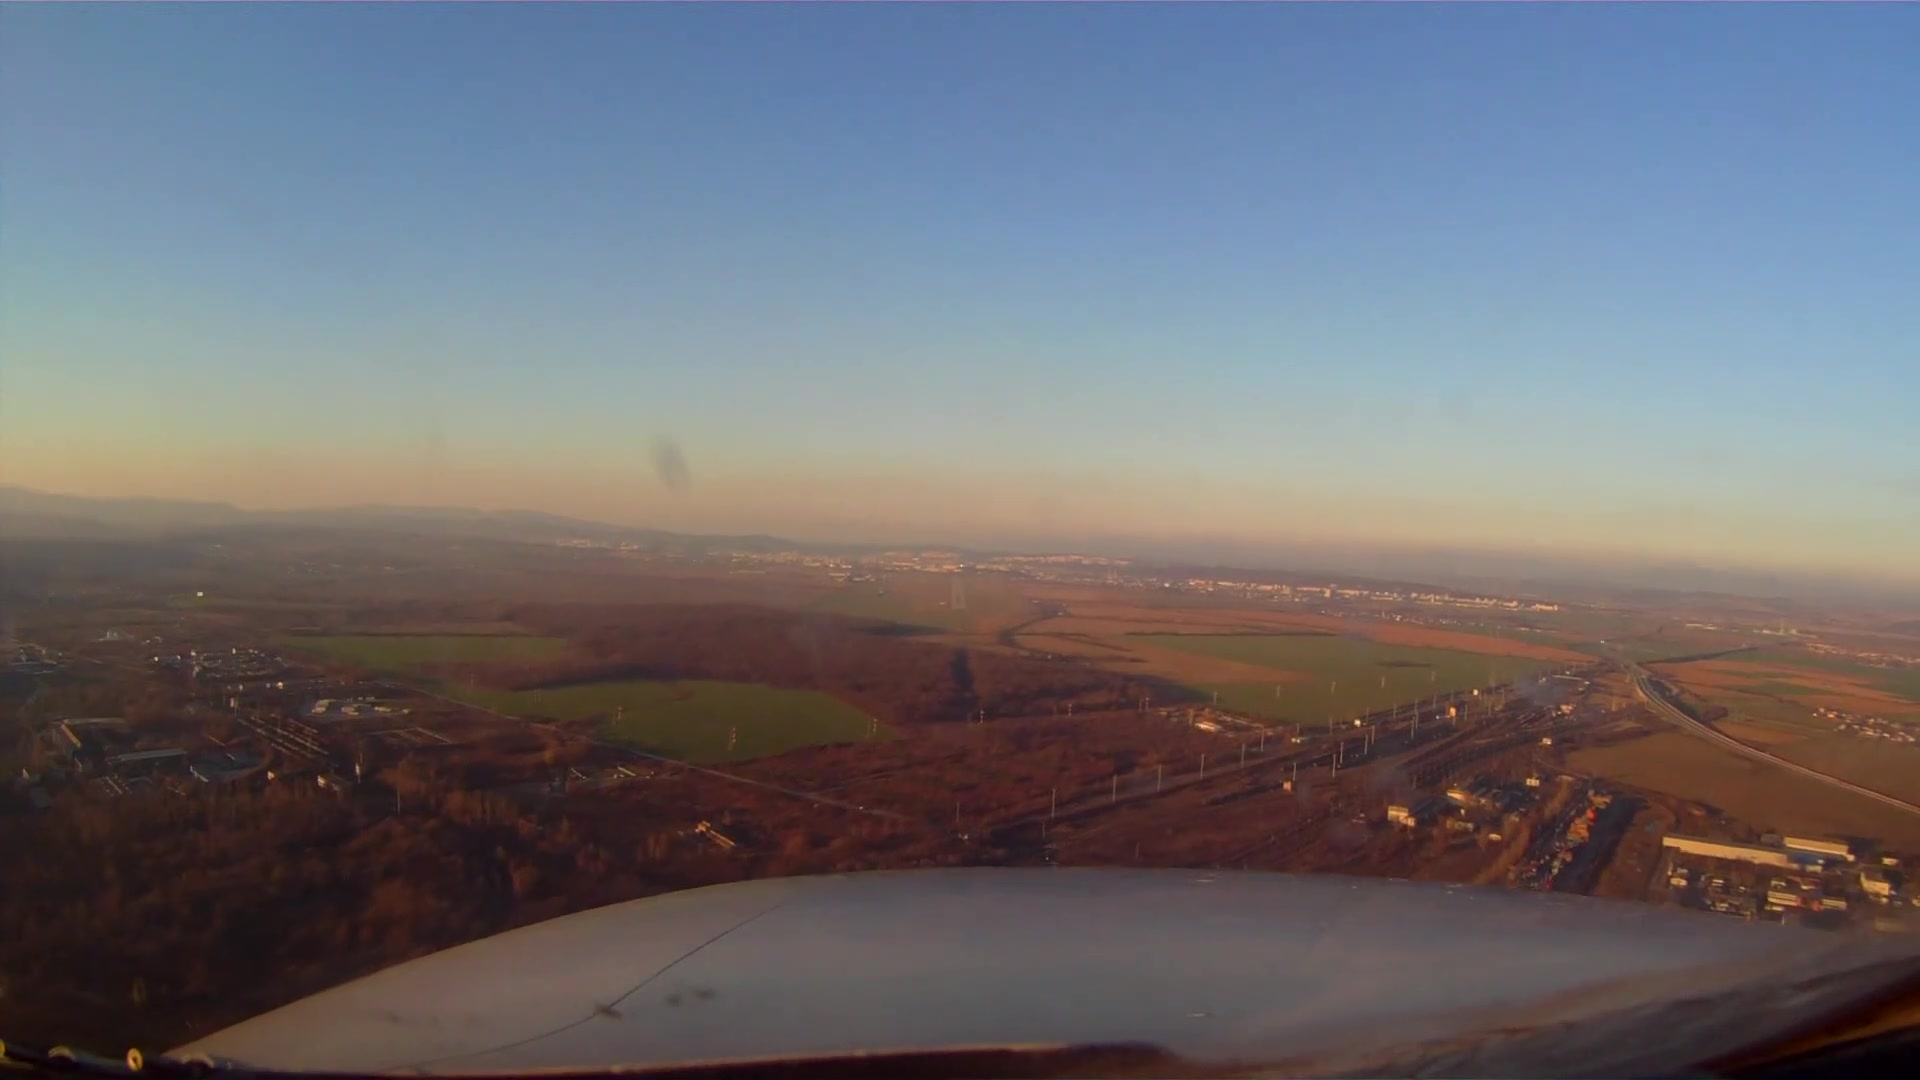runway: (948, 580, 967, 611)
